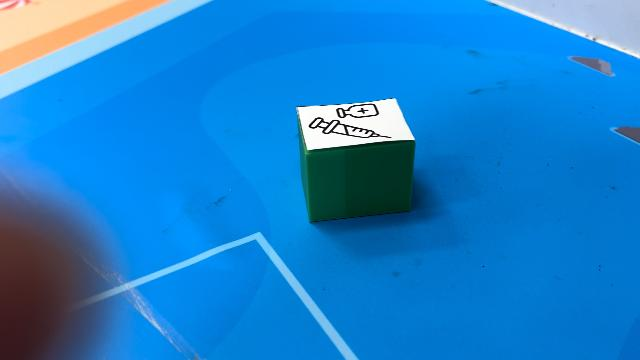syringe: (297, 96, 415, 222)
